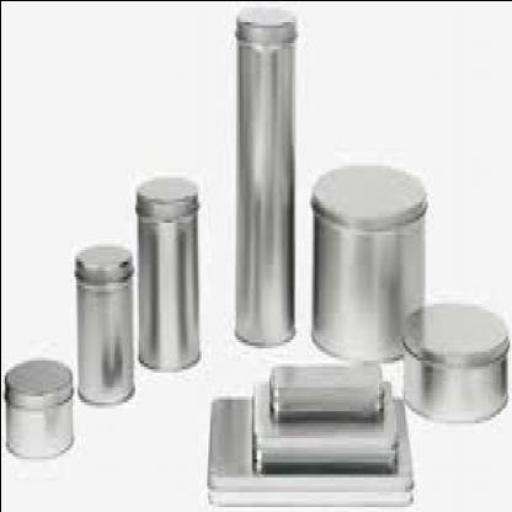metal: (308, 162, 426, 360), (206, 392, 411, 503), (234, 6, 292, 339), (399, 299, 507, 422), (249, 380, 396, 470), (134, 176, 198, 366), (73, 246, 134, 404), (266, 356, 381, 419), (2, 360, 72, 456)
